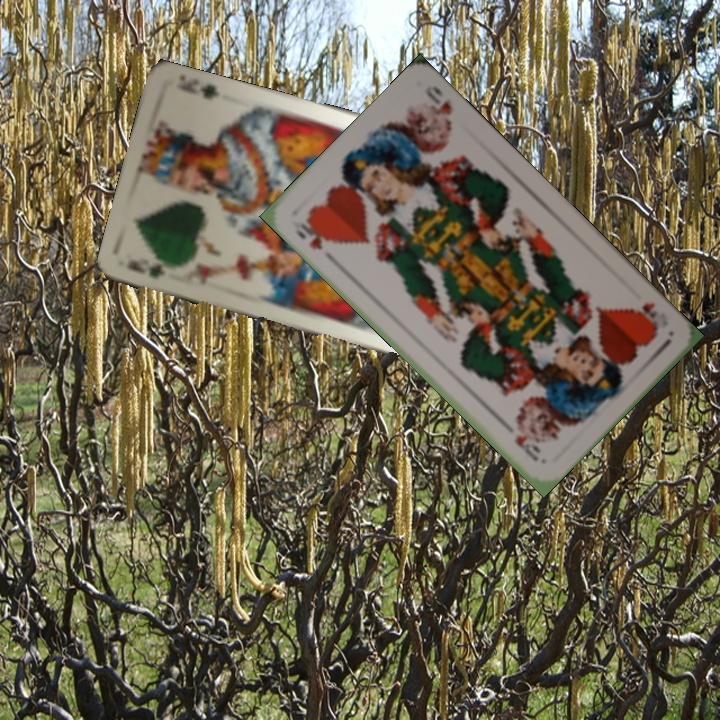GK: (144, 260, 181, 281)
HO: (290, 215, 331, 253), (627, 297, 661, 337)
